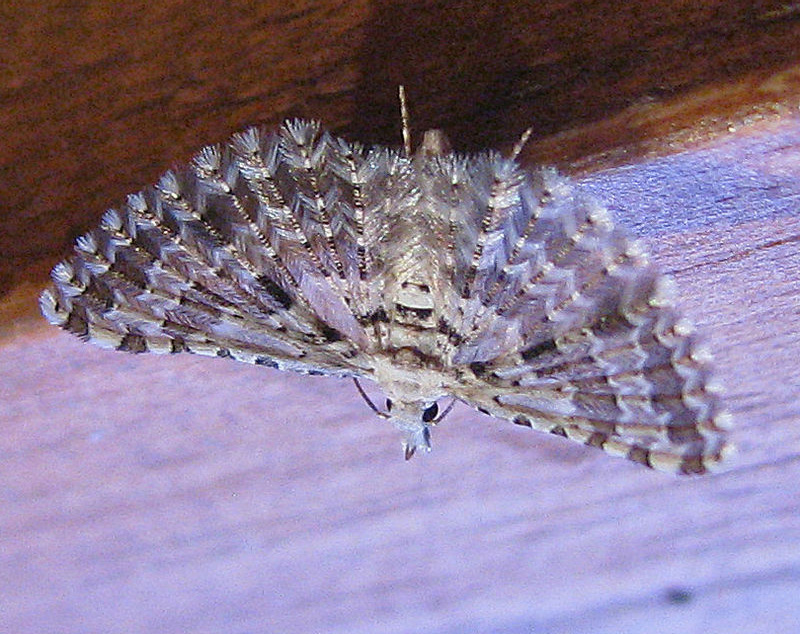Alucitidae: (41, 71, 736, 486)
moth: (43, 73, 738, 488)
